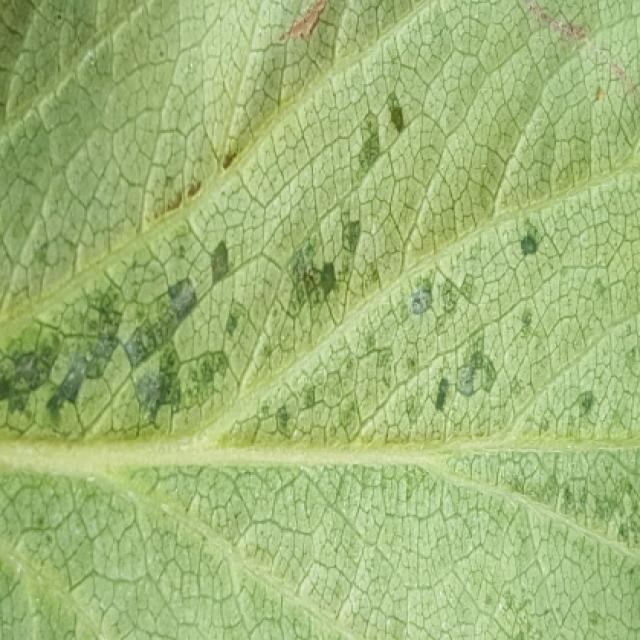Angular Leafspot: (2, 84, 640, 555)
